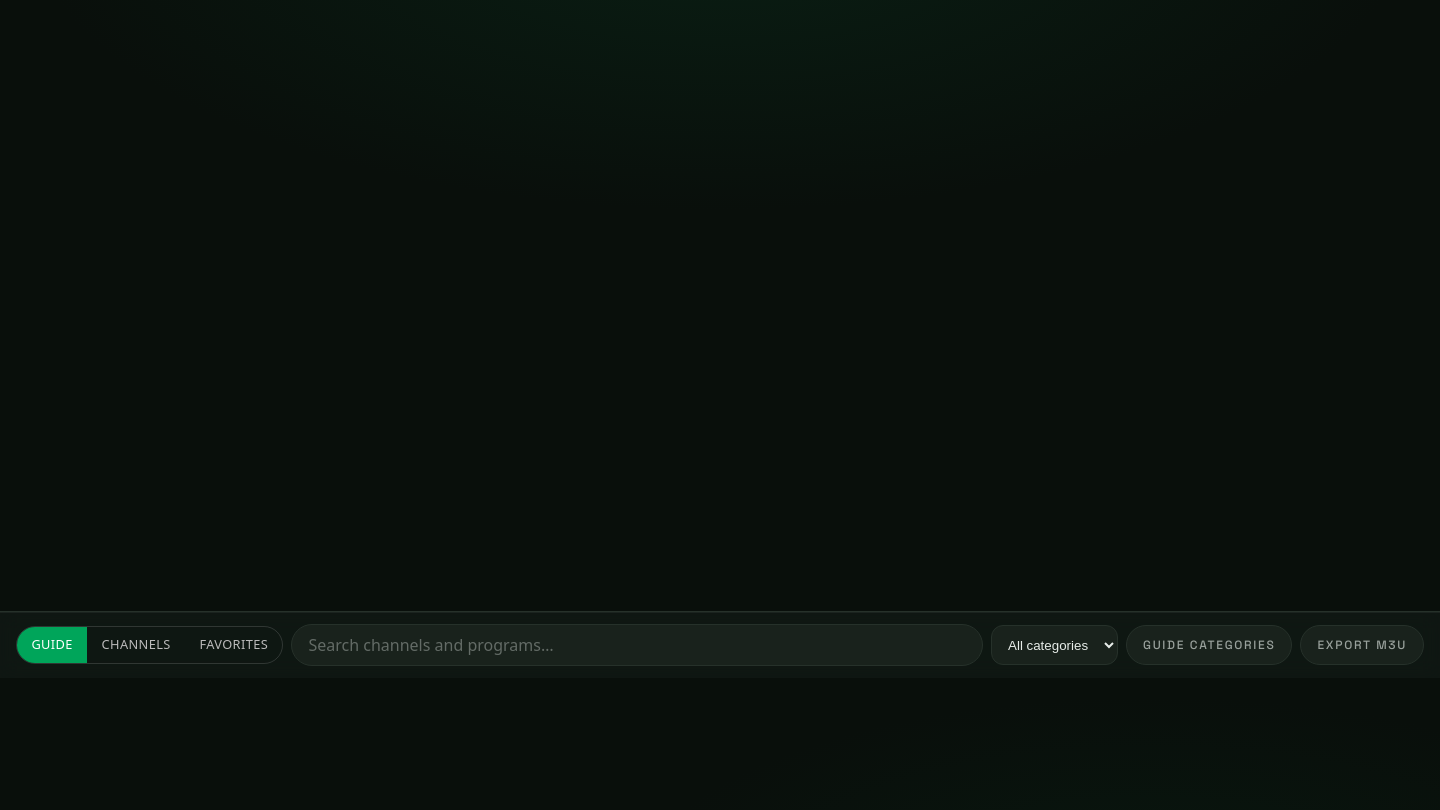
Test: LiveTab — failed channel grant surfaces a visible error (never a silent void) › renders the friendly message for a generic grant failure
The width and height of the screenshot is (1440, 810).
Click the button "Channels".
click(136, 645)  # box [87,627,185,663]
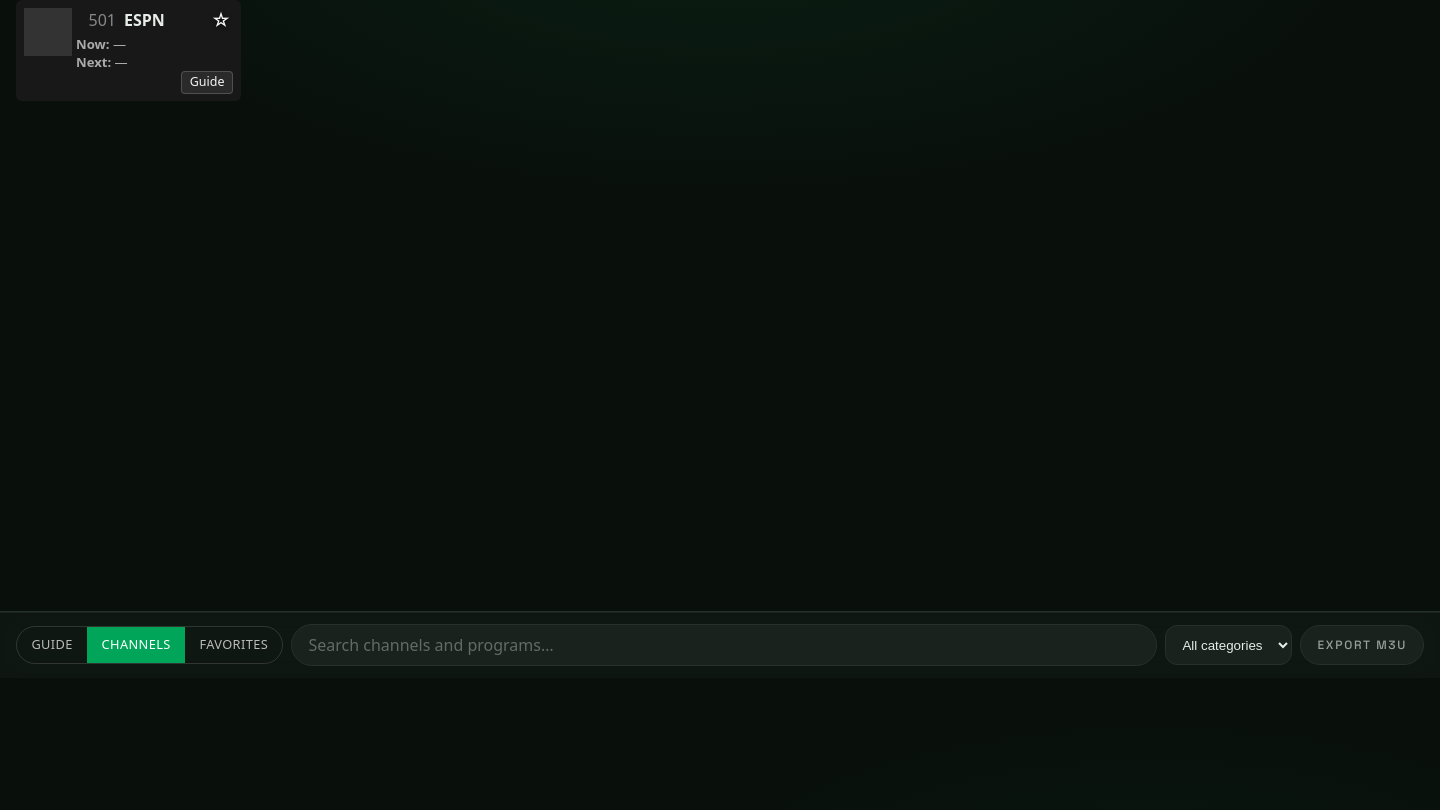
Check: the button "☆ 501 ESPN Now: — Next: — Guide" is shown
Click the button "☆ 501 ESPN Now: — Next: — Guide".
click(128, 50)  # box [16,0,241,101]
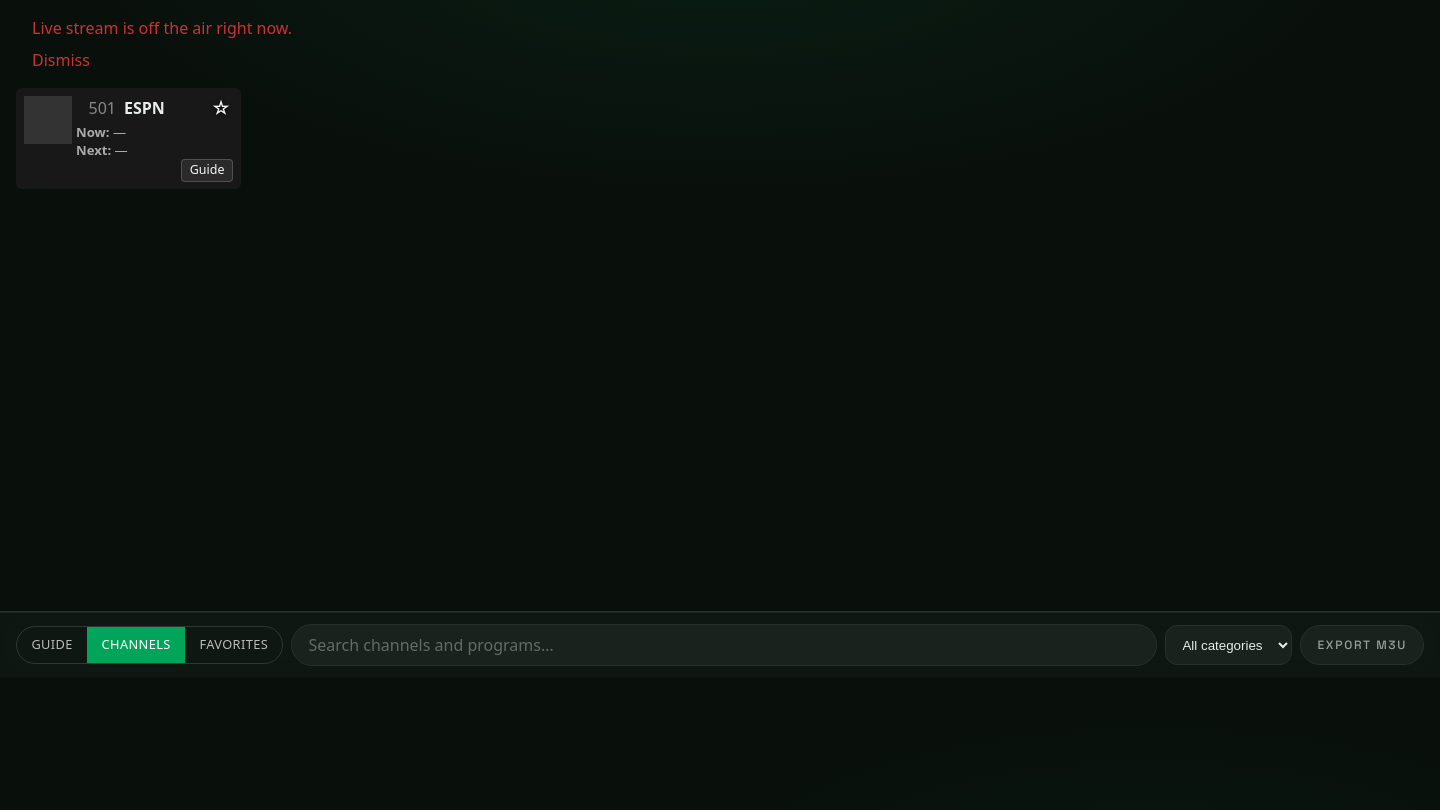
Check: the message shows "Live stream is off the air right now.", box [32,17,292,39]
